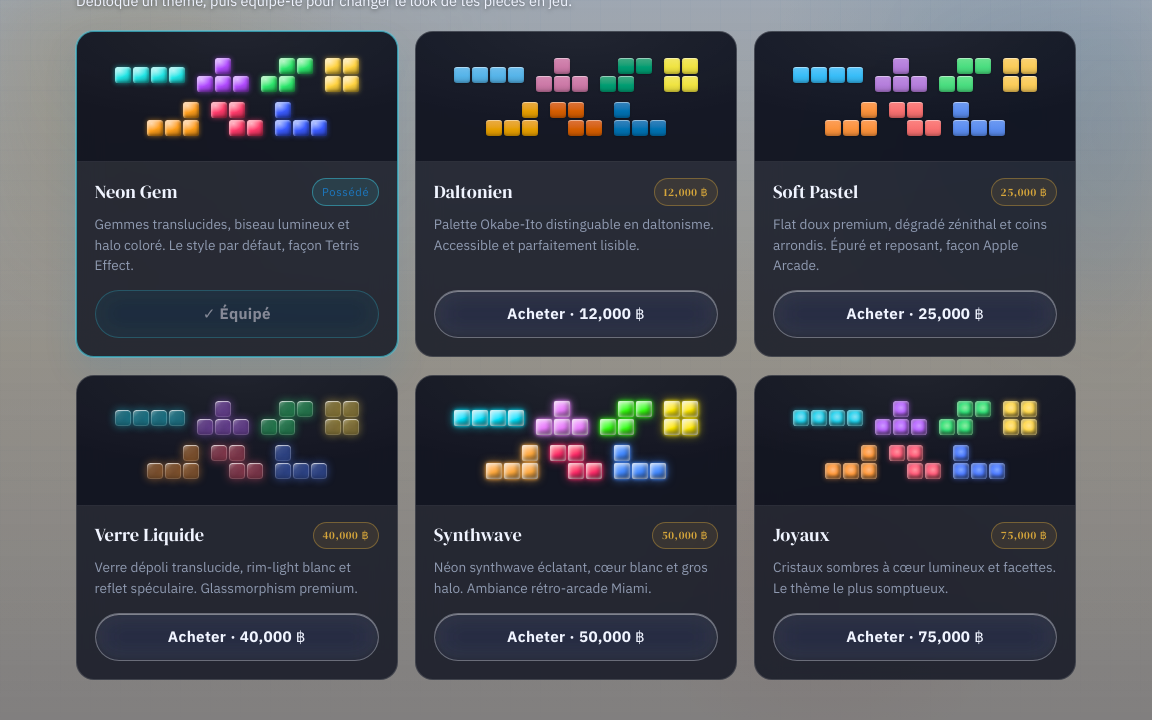
Test: ShopScreen › n'achete rien si la confirmation est annulee
The image size is (1152, 720).
(page scrolled)
Click the button "Acheter · 75,000 ฿": (915,637) [773,613,1057,661]
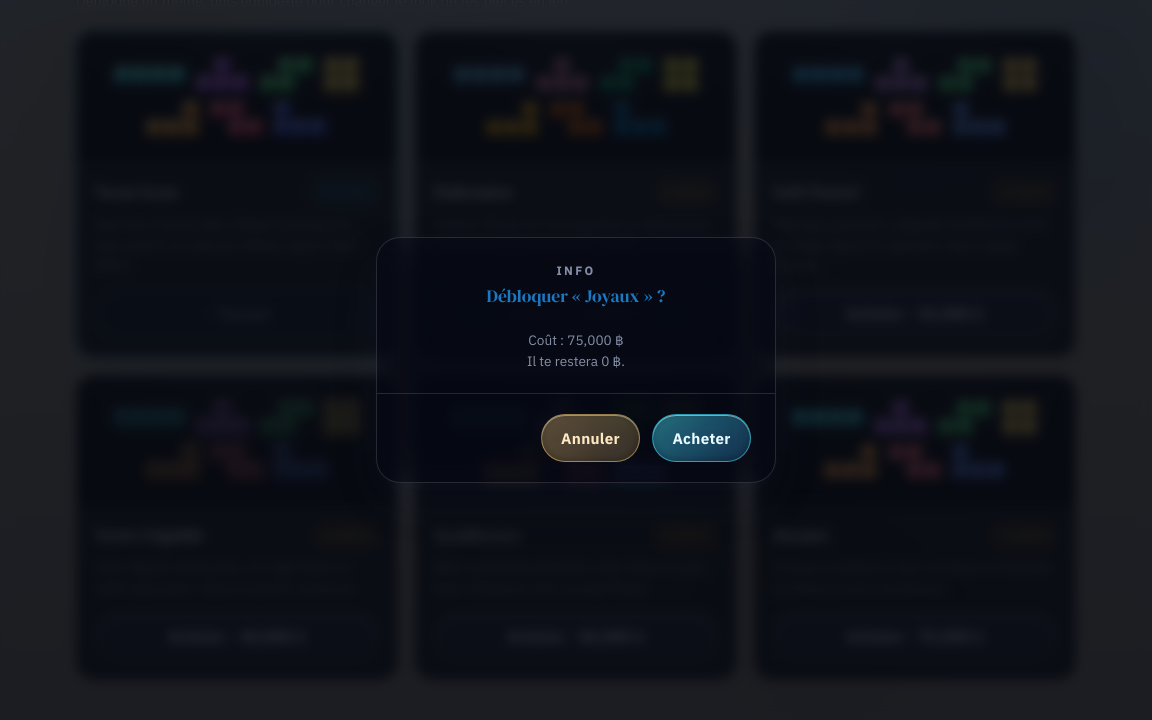
Click the button "Annuler": (591,438) [541,414,640,462]
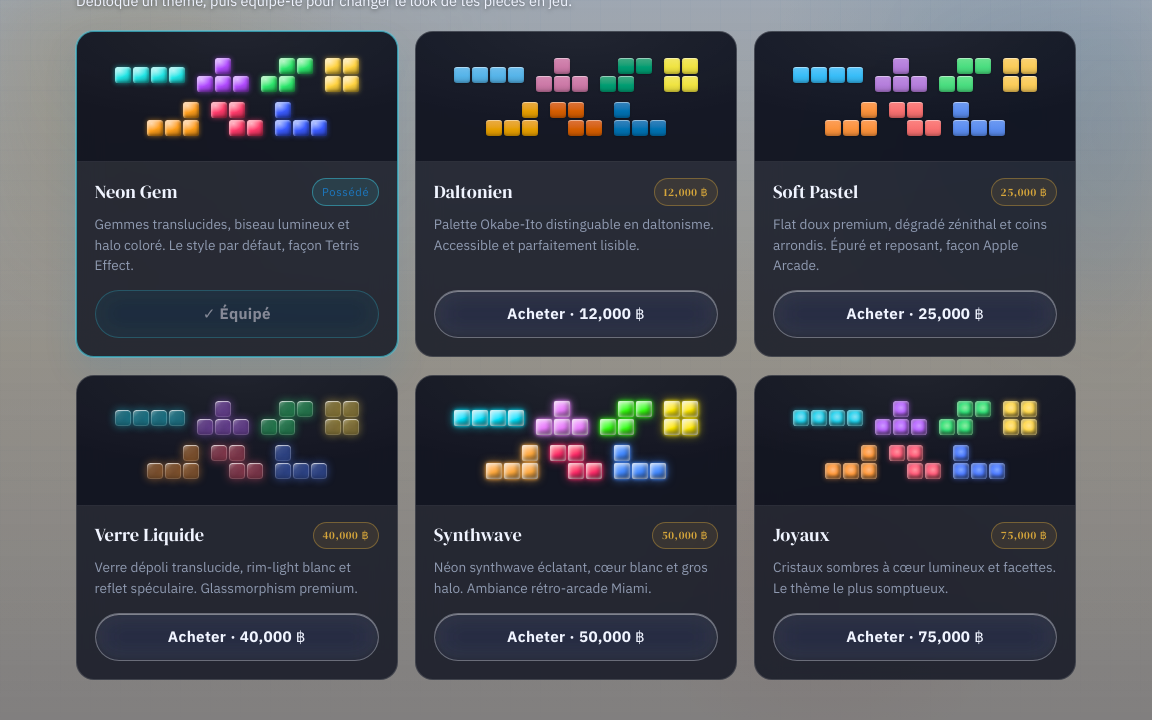
Expected: the heading "Débloquer « Joyaux » ?" is gone
